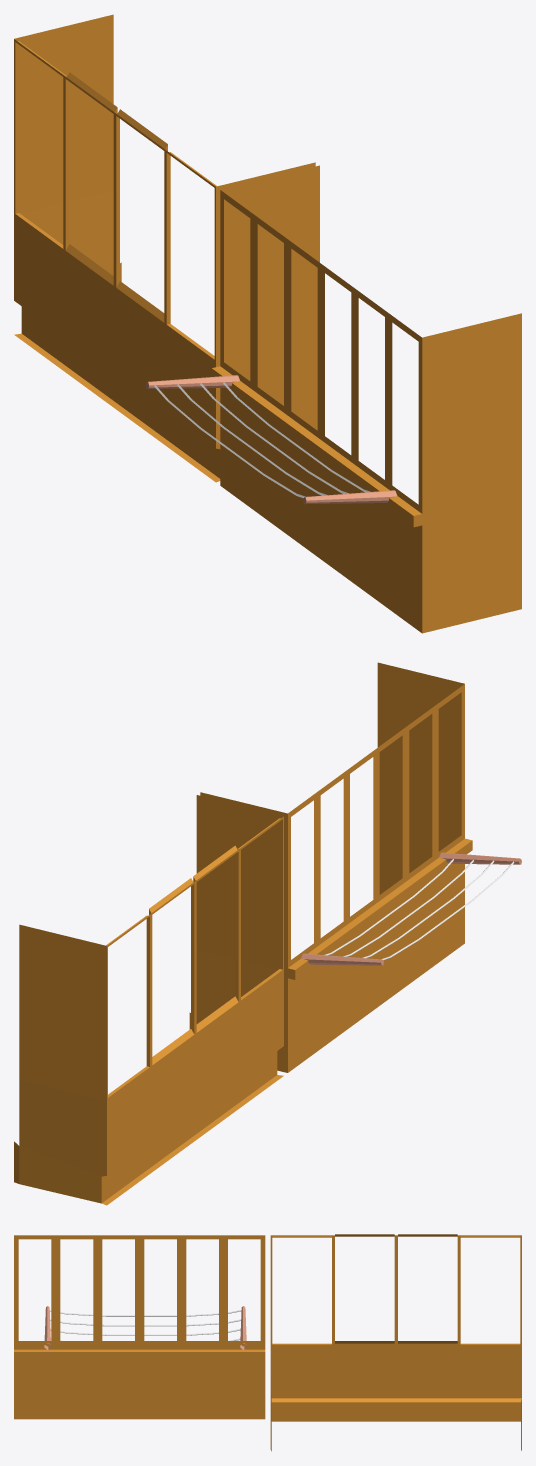
File: balcony1.fbx
3 renders of one model, top to bottom at view 1: azimuth 30°, elevation 25°; view 2: azimuth 150°, elevation 25°; view 3: azimuth 270°, elevation 25°, orthographic. The views are drawn at different scales.
Visible parts, largest first — view 1: balcony, Plane.009, Plane.006; view 2: balcony, Plane.006, Plane.009; view 3: balcony, Plane.006, Plane.009.
Part boxes in pixels (<box>): balcony: <box>14,14,521,633</box>; Plane.009: <box>145,375,397,504</box>; Plane.006: <box>154,382,370,497</box>; balcony: <box>14,662,472,1205</box>; Plane.006: <box>325,859,514,960</box>; Plane.009: <box>301,852,521,965</box>; balcony: <box>14,1234,521,1451</box>; Plane.006: <box>49,1310,241,1340</box>; Plane.009: <box>44,1306,246,1349</box>.
Bounding box in the file's own units: 178 × 258 × 638.
